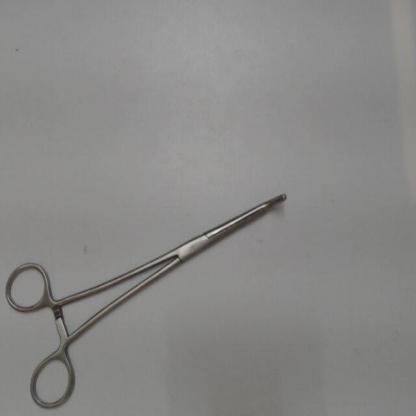Lahey Forceps: (1, 187, 290, 413)
